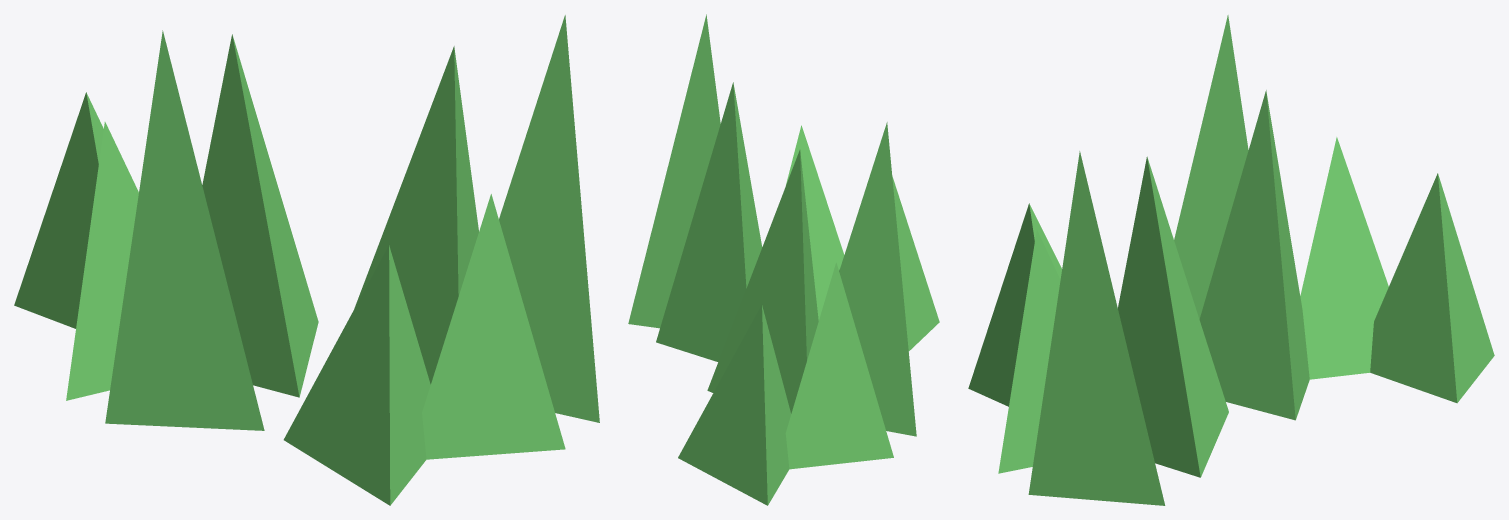
File: Grass_3.fbx
3 renders of one model, left to right at view 1: azimuth 30°, elevation 25°; view 2: azimuth 150°, elevation 25°; view 3: azimuth 270°, elevation 25°, orthographic. The views are drawn at different scales.
Visible parts, largest first — view 1: Cone.021; view 2: Cone.021; view 3: Cone.021.
Boxes of the visible parts, x1,y1,x2,y2 form: Cone.021: (14,15,599,505); Cone.021: (628,14,939,505); Cone.021: (968,15,1494,505).
Bounding box in the file's own units: 35.9 × 31.58 × 43.92.
